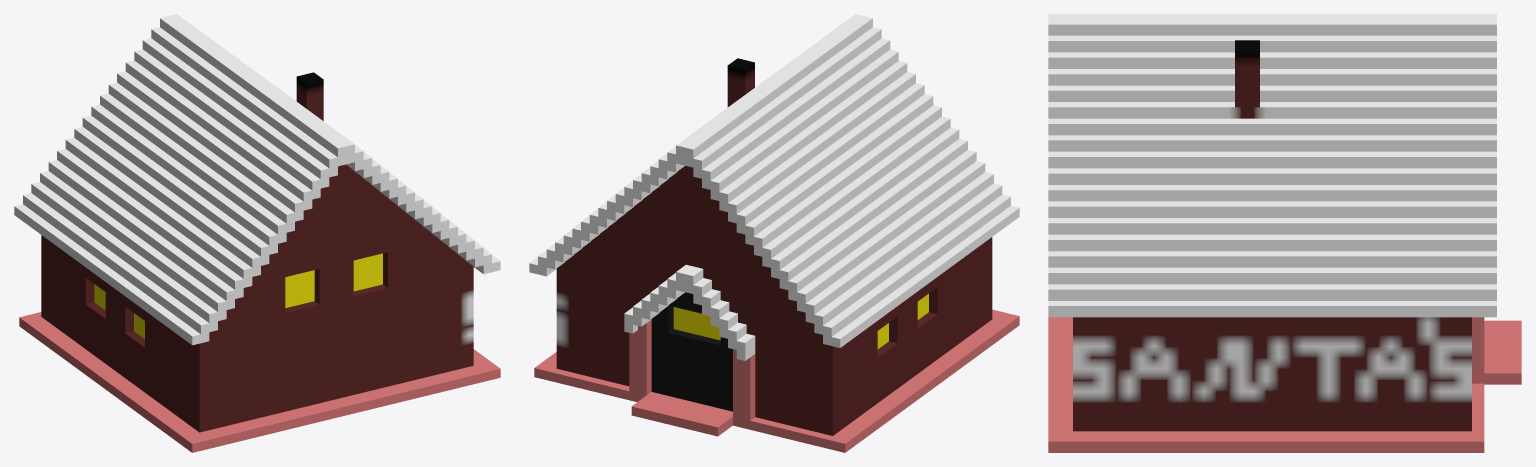
Rendered from SantaHouse.fbx.
3 renders of one model, left to right at view 1: azimuth 30°, elevation 25°; view 2: azimuth 150°, elevation 25°; view 3: azimuth 270°, elevation 25°, orthographic. The views are drawn at different scales.
Parts seen in each view (by area): view 1: SantaHouse; view 2: SantaHouse; view 3: SantaHouse.
Part boxes in pixels (<box>): SantaHouse: <box>14,14,500,452</box>; SantaHouse: <box>529,14,1019,452</box>; SantaHouse: <box>1048,14,1521,452</box>.
Bounding box in the file's own units: 36 × 30 × 38.
Materials: 1 (1 with a texture image).
